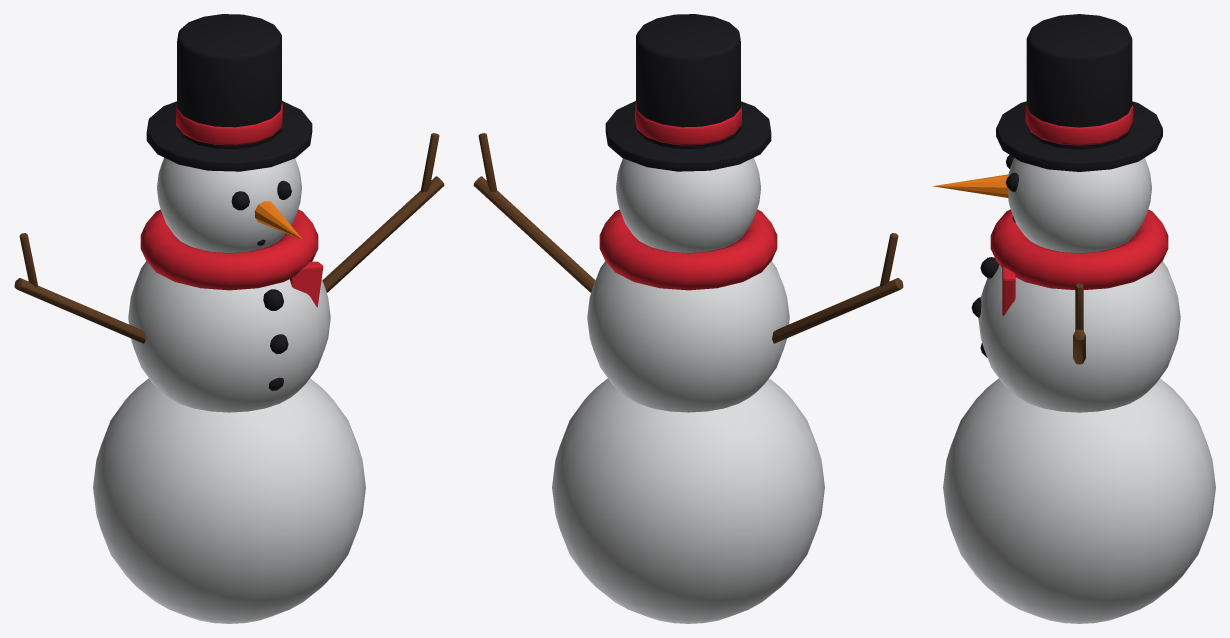
File: snowman.glb
3 renders of one model, left to right at view 1: azimuth 30°, elevation 25°; view 2: azimuth 150°, elevation 25°; view 3: azimuth 270°, elevation 25°, orthographic.
Visible parts, largest first — view 1: snowman; view 2: snowman; view 3: snowman.
Part boxes in pixels (<box>): snowman: <box>14,14,444,623</box>; snowman: <box>473,14,903,623</box>; snowman: <box>932,14,1215,623</box>.
Size of the model in its own units: 2.24 by 2.89 by 1.29.
